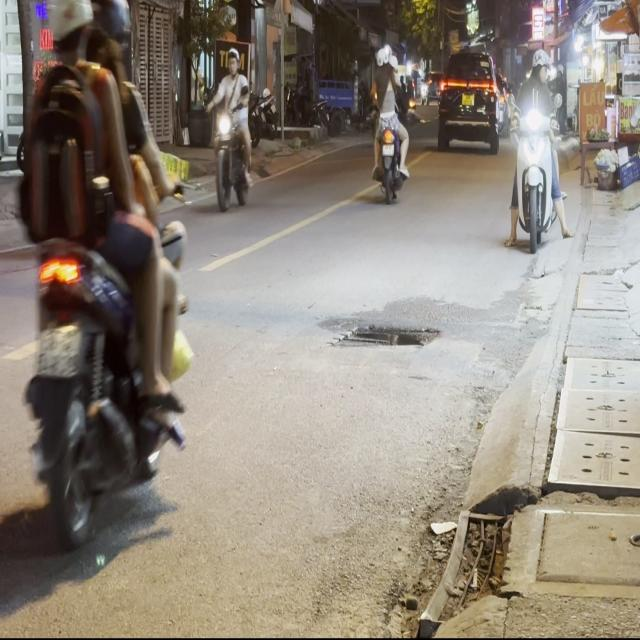helmet: (48, 0, 92, 63), (98, 0, 130, 82), (531, 47, 550, 79), (226, 46, 239, 74)
licenseplate: (11, 1, 192, 581), (504, 46, 566, 252), (209, 45, 254, 210)
nohelmet: (34, 324, 81, 375)
